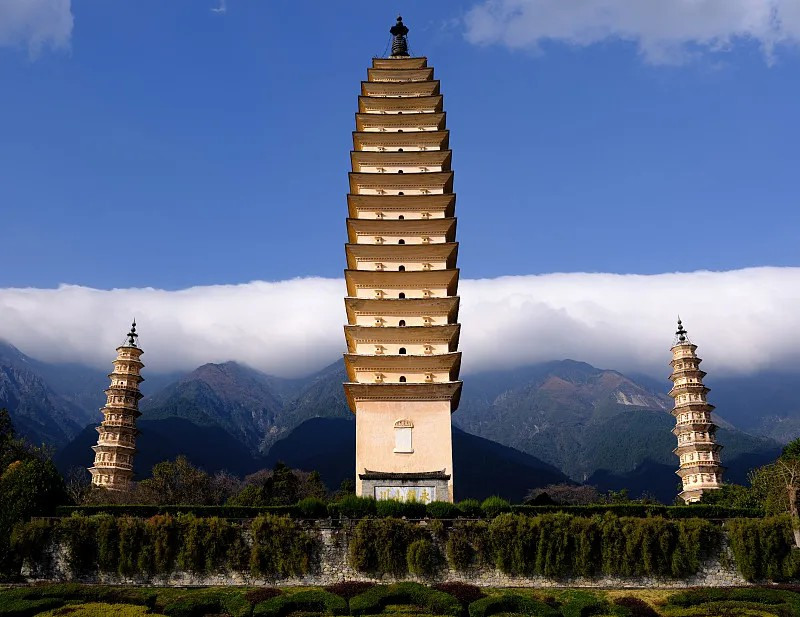ThreePagoda: (342, 13, 463, 502)
